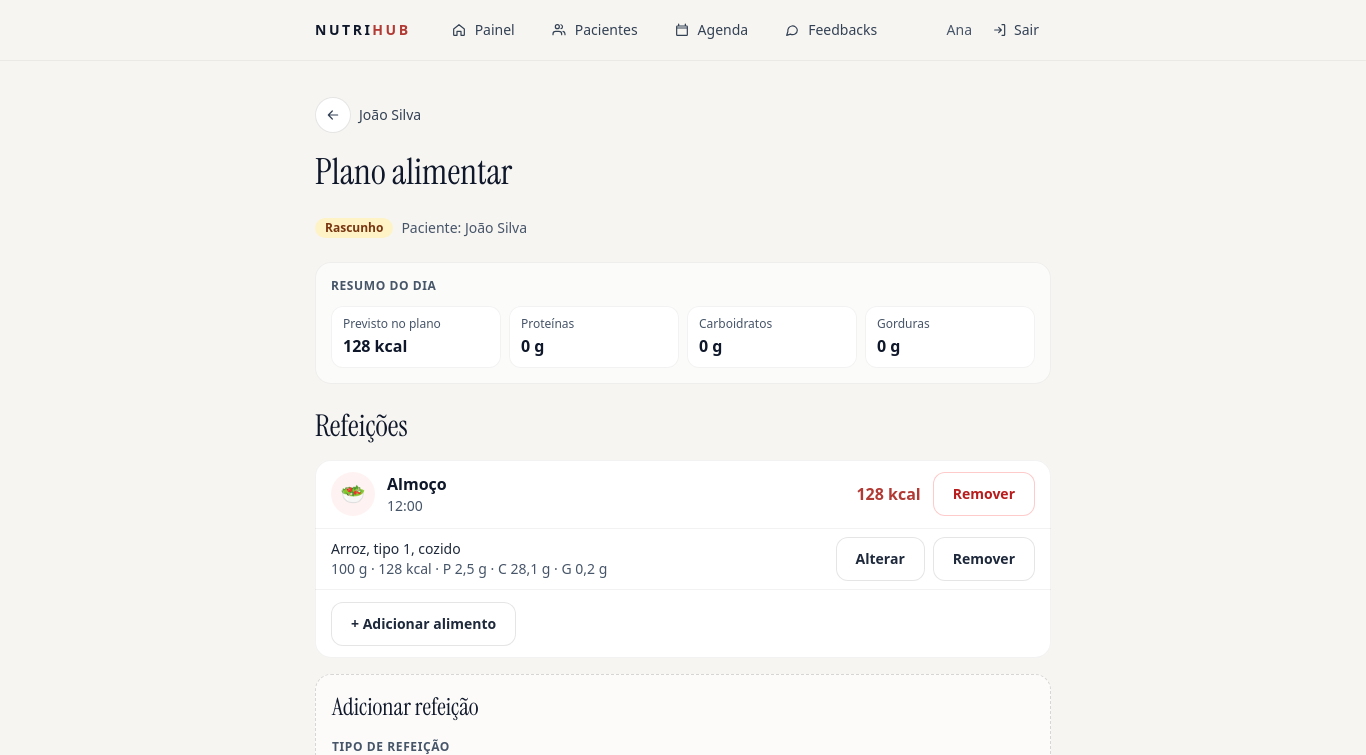
Scenario: ConstrutorDePlano — rascunho (RF-04) › remove um alimento do rascunho
Click the button "Remover" in the row of "Arroz, tipo 1, cozido".
click(984, 559)  # box top-left (933, 537), bottom-right (1035, 581)
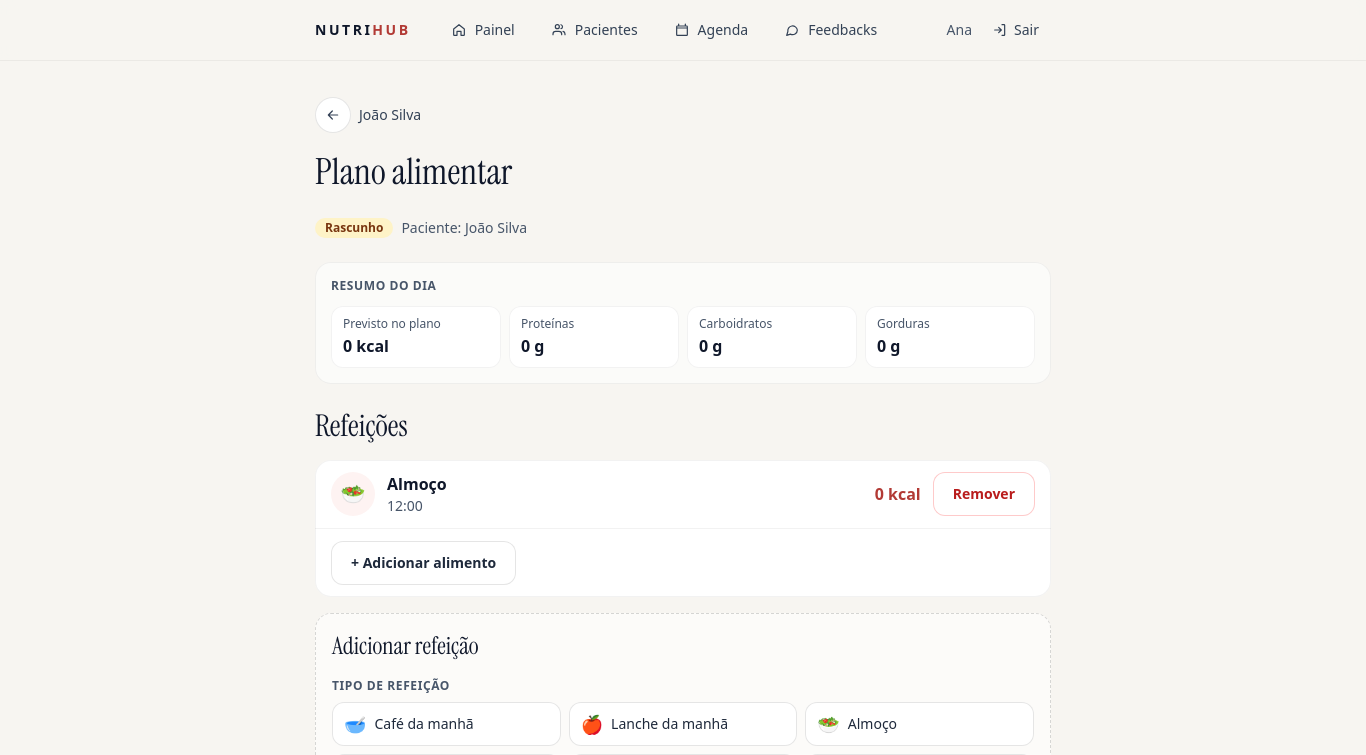
expect the button "+ Adicionar alimento" is shown: met, box top-left (331, 541), bottom-right (516, 585)
expect the text "Arroz, tipo 1, cozido" is gone: met
